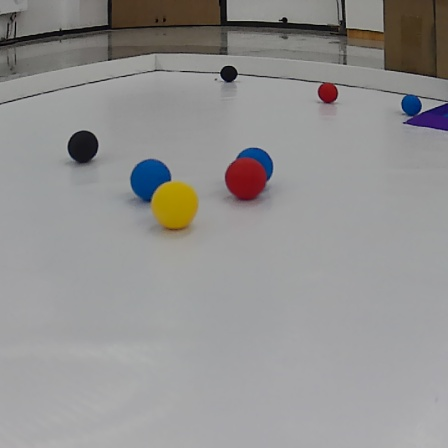black: (63, 129, 99, 164), (217, 62, 239, 84)
blue: (130, 159, 172, 197), (238, 146, 273, 180), (397, 93, 421, 116)
red: (222, 154, 270, 201), (315, 80, 340, 105)
yellow: (151, 177, 199, 233)
